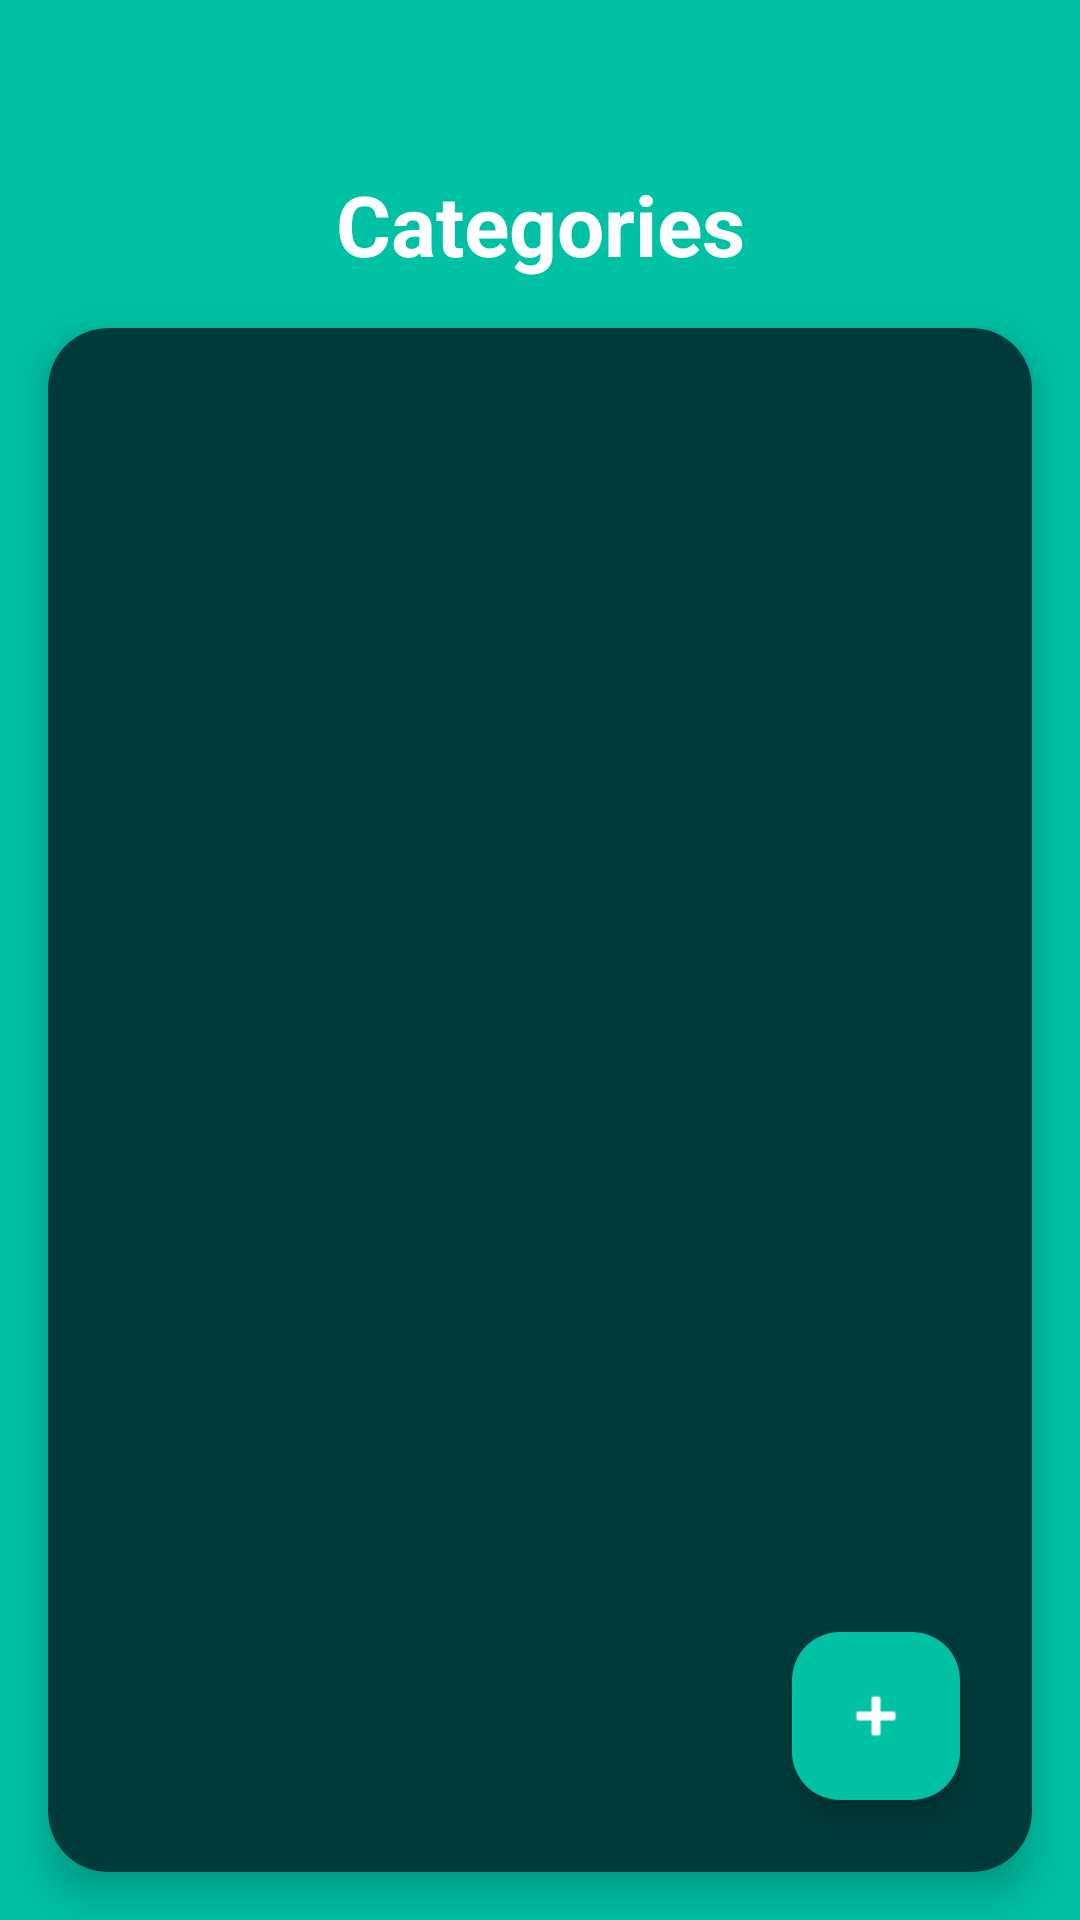

Named icons in this screenshot (1080w x 1920h) and their bounding boxes, (x1, y1, x2, y2):
Add Category: (792, 1632, 960, 1800)
